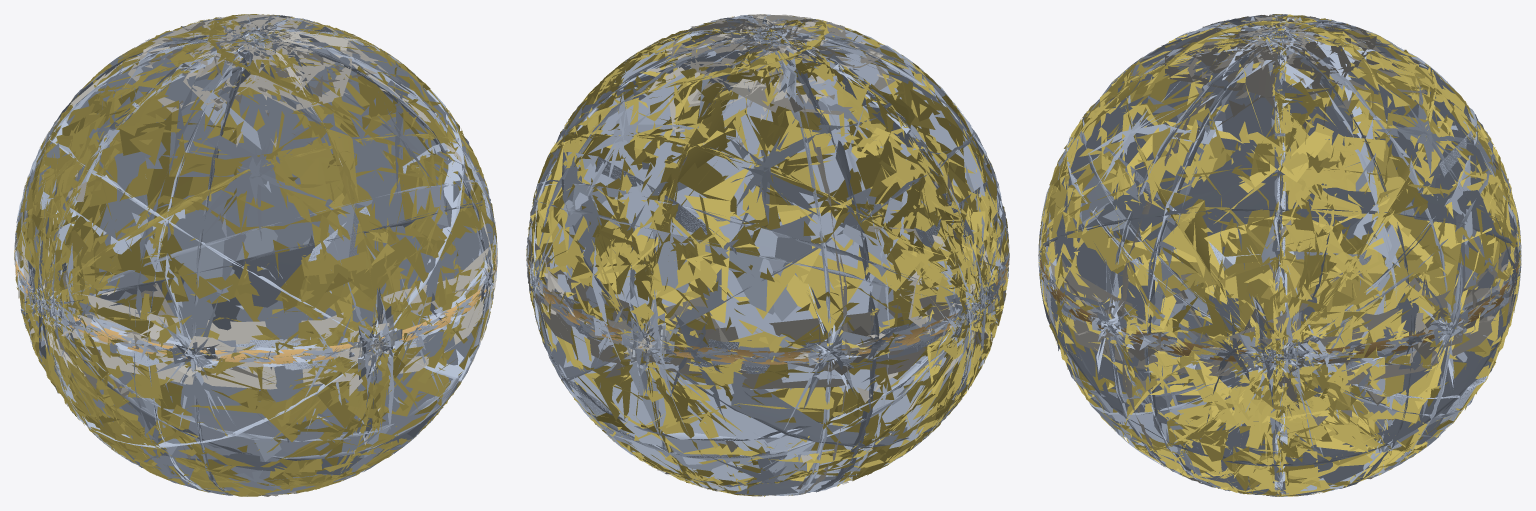
The model's file is dsf.glb.
3 views of the same model, side by side, from view 1: azimuth 30°, elevation 25°; view 2: azimuth 150°, elevation 25°; view 3: azimuth 270°, elevation 25° (orthographic).
Visible parts, largest first — view 1: TS-dsf-access-34, TS-dsf-struct_pri-2, TS-dsf-struct_pri-1, TS-dsf-access-30, TS-dsf-struct_pri-3, TS-dsf-misc-26, TS-dsf-misc-7, TS-dsf-mechanical-1667, TS-dsf-misc-20, TS-dsf-misc-25; view 2: TS-dsf-access-34, TS-dsf-struct_pri-2, TS-dsf-struct_pri-1, TS-dsf-access-30, TS-dsf-struct_pri-3, TS-dsf-misc-26, TS-dsf-misc-7, TS-dsf-mechanical-1667, TS-dsf-misc-25, TS-dsf-misc-20, TS-dsf-struct_sec-4; view 3: TS-dsf-access-34, TS-dsf-struct_pri-2, TS-dsf-struct_pri-1, TS-dsf-access-30, TS-dsf-struct_pri-3, TS-dsf-misc-26, TS-dsf-misc-7, TS-dsf-mechanical-1667, TS-dsf-misc-20, TS-dsf-misc-25.
Boxes of the visible parts, <box> form: TS-dsf-access-34: <box>14,14,497,496</box>; TS-dsf-struct_pri-2: <box>14,15,497,495</box>; TS-dsf-struct_pri-1: <box>14,18,497,494</box>; TS-dsf-access-30: <box>15,14,495,494</box>; TS-dsf-struct_pri-3: <box>15,16,495,491</box>; TS-dsf-misc-26: <box>16,14,497,496</box>; TS-dsf-misc-7: <box>14,14,497,445</box>; TS-dsf-mechanical-1667: <box>14,250,497,364</box>; TS-dsf-misc-20: <box>46,19,484,455</box>; TS-dsf-misc-25: <box>14,14,495,459</box>; TS-dsf-access-34: <box>526,14,1009,496</box>; TS-dsf-struct_pri-2: <box>526,15,1008,495</box>; TS-dsf-struct_pri-1: <box>526,15,1009,495</box>; TS-dsf-access-30: <box>528,19,996,463</box>; TS-dsf-struct_pri-3: <box>529,14,1008,495</box>; TS-dsf-misc-26: <box>526,14,1009,496</box>; TS-dsf-misc-7: <box>526,14,1009,495</box>; TS-dsf-mechanical-1667: <box>527,257,1008,364</box>; TS-dsf-misc-25: <box>526,14,1008,482</box>; TS-dsf-misc-20: <box>645,15,1002,493</box>; TS-dsf-struct_sec-4: <box>565,258,1008,363</box>; TS-dsf-access-34: <box>1038,14,1521,496</box>; TS-dsf-struct_pri-2: <box>1038,14,1521,496</box>; TS-dsf-struct_pri-1: <box>1038,16,1521,495</box>; TS-dsf-access-30: <box>1043,17,1516,465</box>; TS-dsf-struct_pri-3: <box>1048,17,1492,495</box>; TS-dsf-misc-26: <box>1039,17,1521,488</box>; TS-dsf-misc-7: <box>1038,15,1521,483</box>; TS-dsf-mechanical-1667: <box>1038,254,1518,362</box>; TS-dsf-misc-20: <box>1040,17,1520,495</box>; TS-dsf-misc-25: <box>1053,14,1511,493</box>.
Bounding box in the file's own units: 2 × 2 × 2.
